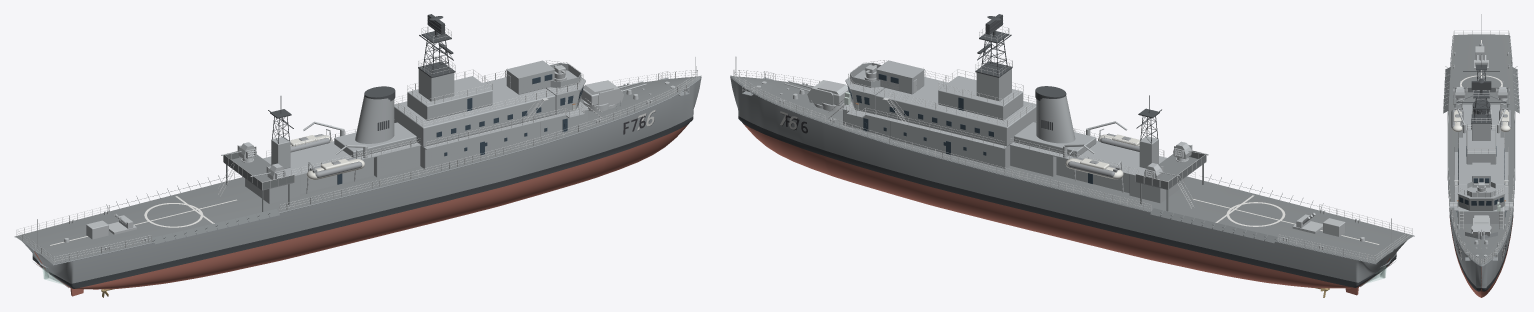
Rendered from kd-hang-tuah-exterior.glb.
The picture shows the model from 3 angles, left to right: view 1: azimuth 30°, elevation 25°; view 2: azimuth 150°, elevation 25°; view 3: azimuth 270°, elevation 25°; orthographic projection. The views are drawn at different scales.
Visible parts, largest first — view 1: hull_topside, superstructure, hull_bottom, deck_flight, hull_boottop, deck_main, deck_forecastle, funnel, training_bridge, helideck_safety_nets, railing_02_deck, railing_main_deck_starboard (+16 smaller); view 2: hull_topside, superstructure, hull_bottom, deck_flight, hull_boottop, deck_main, deck_forecastle, funnel, helideck_safety_nets, training_bridge, railing_02_deck, railing_main_deck_port (+16 smaller); view 3: superstructure, deck_flight, deck_main, deck_forecastle, hull_topside, bridge, helideck_safety_nets, foremast_upper, hull_deck_edge, y_gun_deck, training_bridge, foremast (+35 smaller).
Boxes of the visible parts, x1=… form: hull_topside: x1=22, y1=76, x2=701, y2=287; superstructure: x1=245, y1=76, x2=588, y2=203; hull_bottom: x1=34, y1=124, x2=688, y2=289; deck_flight: x1=15, y1=179, x2=278, y2=264; hull_boottop: x1=32, y1=116, x2=693, y2=288; deck_main: x1=235, y1=125, x2=591, y2=212; deck_forecastle: x1=580, y1=75, x2=701, y2=127; funnel: x1=355, y1=95, x2=394, y2=143; training_bridge: x1=506, y1=60, x2=554, y2=94; helideck_safety_nets: x1=106, y1=175, x2=279, y2=244; railing_02_deck: x1=394, y1=60, x2=583, y2=127; railing_main_deck_starboard: x1=279, y1=121, x2=591, y2=211; hull_topside: x1=730, y1=76, x2=1406, y2=286; superstructure: x1=842, y1=76, x2=1184, y2=203; hull_bottom: x1=743, y1=124, x2=1392, y2=288; deck_flight: x1=1151, y1=178, x2=1413, y2=263; hull_boottop: x1=738, y1=116, x2=1396, y2=287; deck_main: x1=839, y1=125, x2=1194, y2=211; deck_forecastle: x1=730, y1=75, x2=850, y2=127; funnel: x1=1036, y1=95, x2=1075, y2=143; helideck_safety_nets: x1=1150, y1=174, x2=1323, y2=243; training_bridge: x1=876, y1=60, x2=924, y2=94; railing_02_deck: x1=848, y1=60, x2=1035, y2=126; railing_main_deck_port: x1=840, y1=120, x2=1151, y2=210; superstructure: x1=1454, y1=104, x2=1508, y2=224; deck_flight: x1=1448, y1=34, x2=1514, y2=114; deck_main: x1=1448, y1=115, x2=1514, y2=224; deck_forecastle: x1=1453, y1=223, x2=1509, y2=265; hull_topside: x1=1449, y1=202, x2=1513, y2=287; bridge: x1=1449, y1=185, x2=1513, y2=210; helideck_safety_nets: x1=1443, y1=66, x2=1519, y2=113; foremast_upper: x1=1456, y1=91, x2=1506, y2=123; hull_deck_edge: x1=1447, y1=35, x2=1515, y2=265; y_gun_deck: x1=1453, y1=92, x2=1509, y2=107; training_bridge: x1=1472, y1=162, x2=1490, y2=187; foremast: x1=1472, y1=123, x2=1490, y2=140.
Bounding box in the file's own units: 104 × 29 × 14.02.
